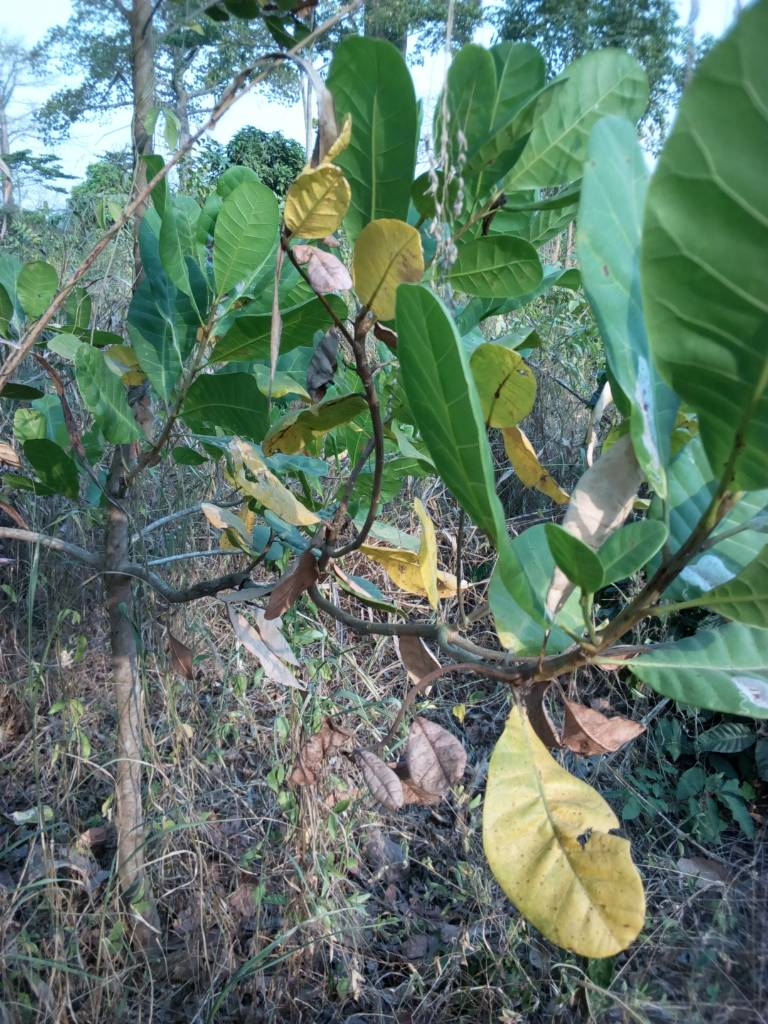Anthracnose: (486, 706, 646, 963)
